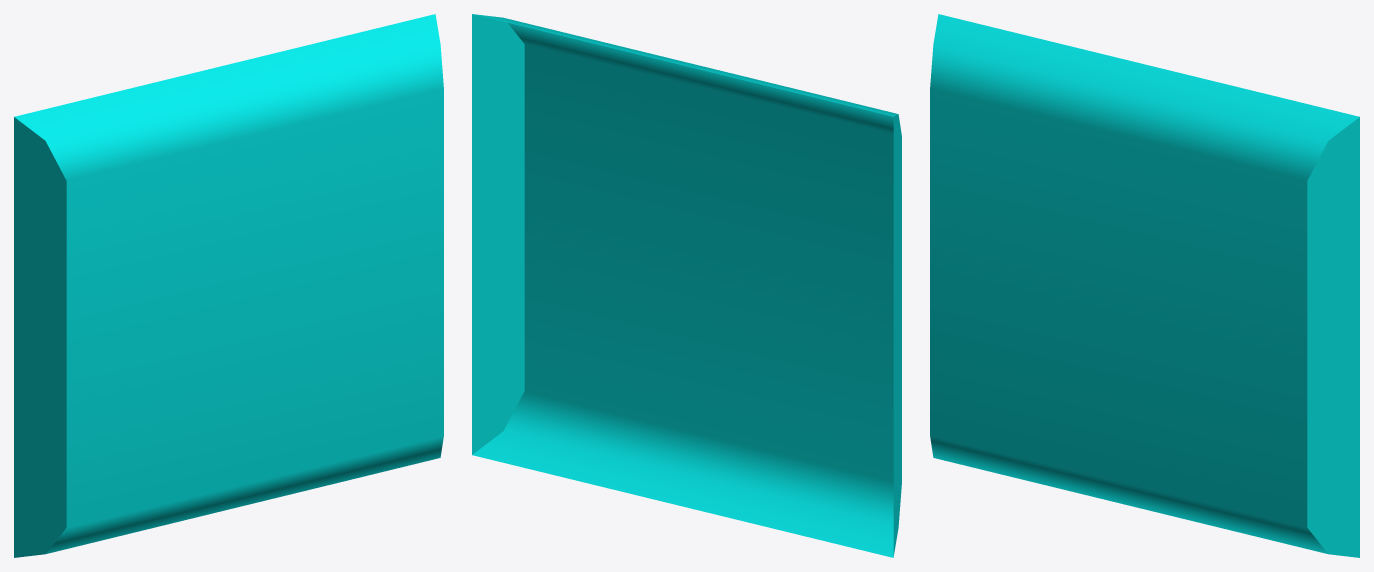
Rendered from classroomSocket2.fbx.
3 renders of one model, left to right at view 1: azimuth 30°, elevation 25°; view 2: azimuth 150°, elevation 25°; view 3: azimuth 330°, elevation 25°, orthographic.
Visible parts, largest first — view 1: classroom_socket2; view 2: classroom_socket2; view 3: classroom_socket2.
Part boxes in pixels (x1=…): classroom_socket2: x1=14, y1=14, x2=443, y2=557; classroom_socket2: x1=472, y1=14, x2=901, y2=557; classroom_socket2: x1=930, y1=14, x2=1359, y2=557.
Size of the model in its own units: 8 by 8 by 1.
